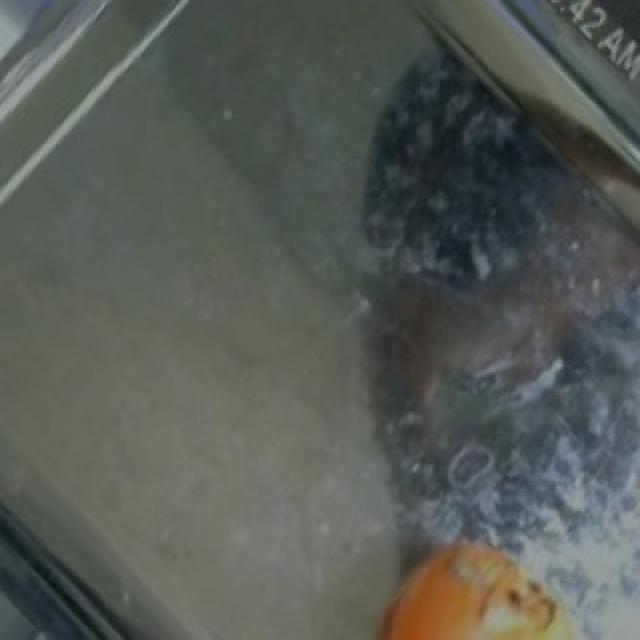Fruit: (352, 516, 570, 640)
